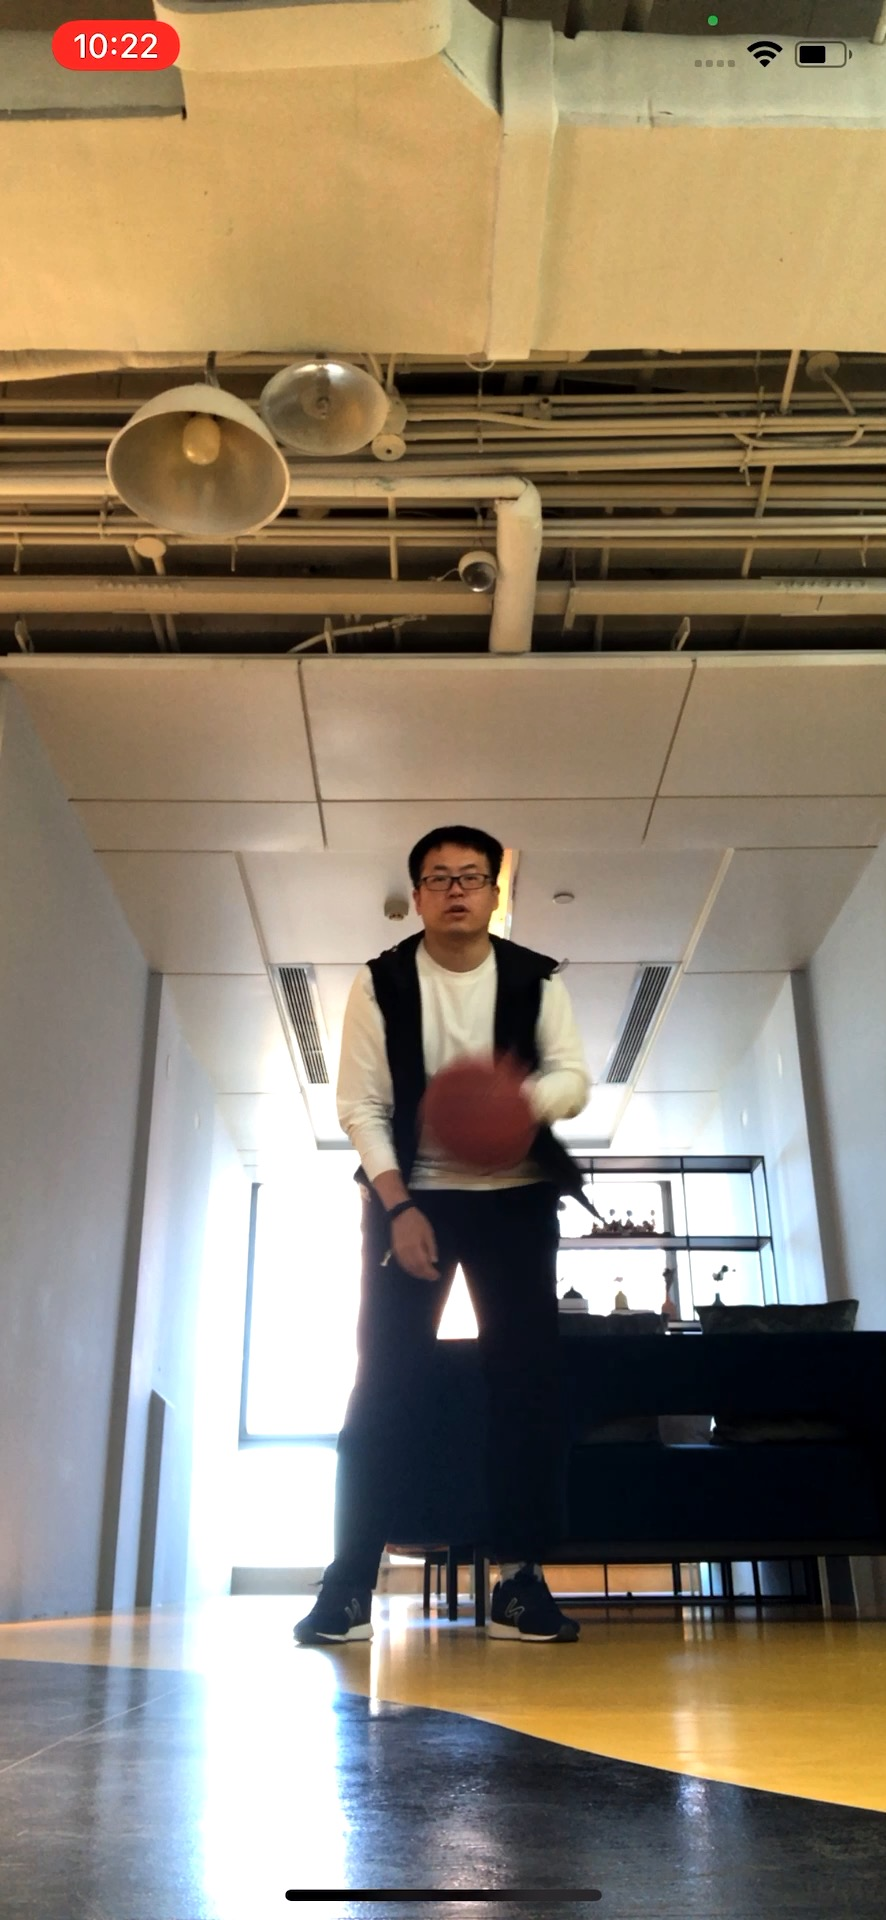ball: (430, 1057, 534, 1174)
